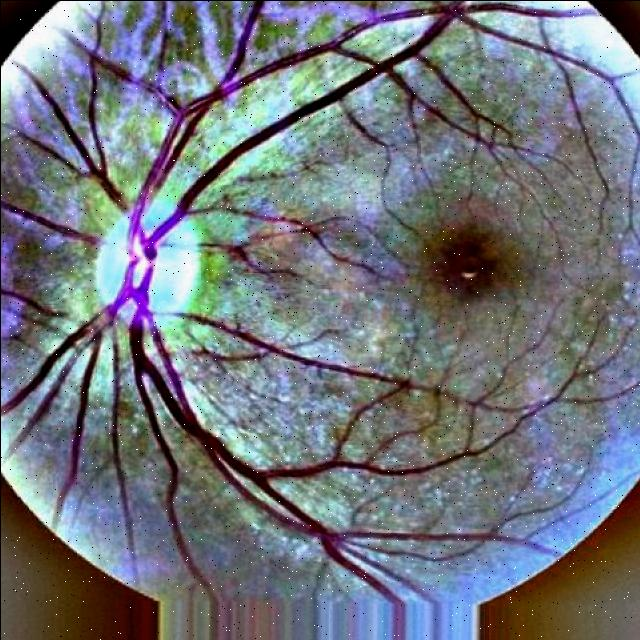Macula: (409, 196, 514, 315)
Nerves: (0, 290, 558, 557), (121, 0, 580, 251)
Optic Disk: (68, 187, 223, 338)
